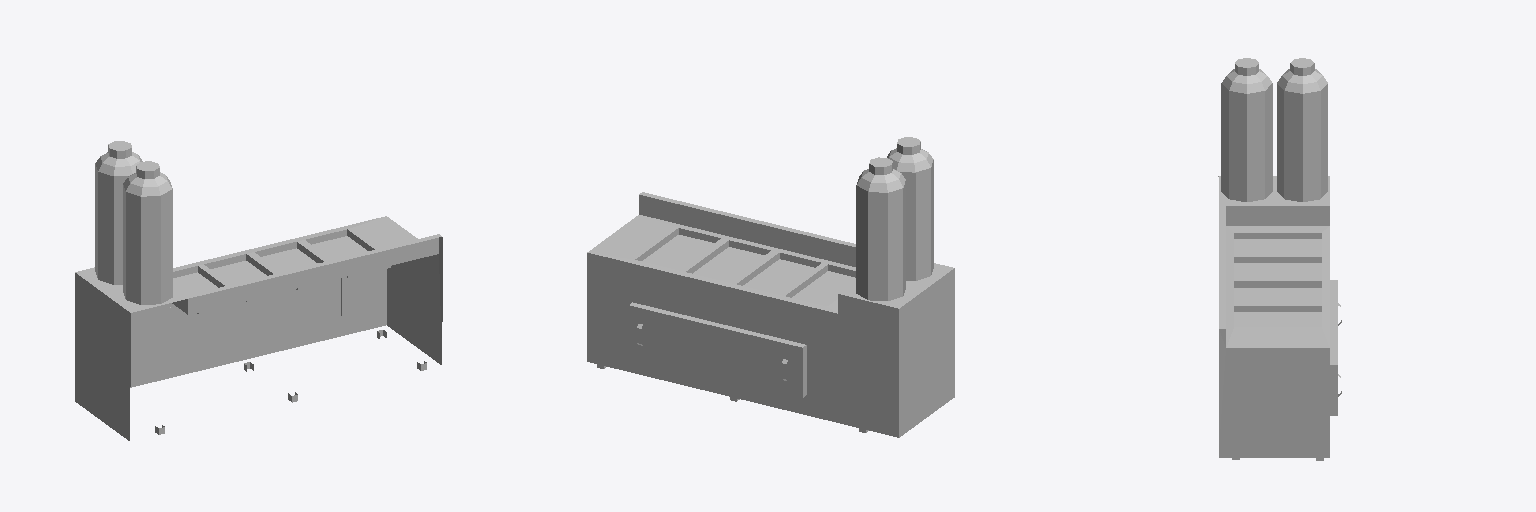
Rendered from buffettable.obj.
The picture shows the model from 3 angles: view 1: azimuth 30°, elevation 25°; view 2: azimuth 150°, elevation 25°; view 3: azimuth 270°, elevation 25°; orthographic projection.
Visible parts, largest first — view 1: Cylinder_Cylinder.001; view 2: Cylinder_Cylinder.001; view 3: Cylinder_Cylinder.001.
Boxes of the visible parts, x1,y1,x2,y2 form: Cylinder_Cylinder.001: [75, 141, 442, 440]; Cylinder_Cylinder.001: [587, 137, 954, 437]; Cylinder_Cylinder.001: [1218, 58, 1341, 460].
Size of the model in its own units: 8.56 by 6.92 by 2.92.